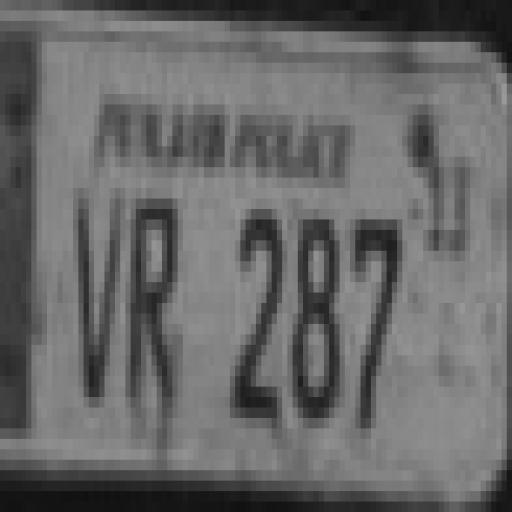2: (233, 209, 278, 435)
7: (344, 209, 400, 451)
8: (284, 217, 341, 434)
R: (124, 198, 180, 430)
V: (72, 190, 120, 426)
